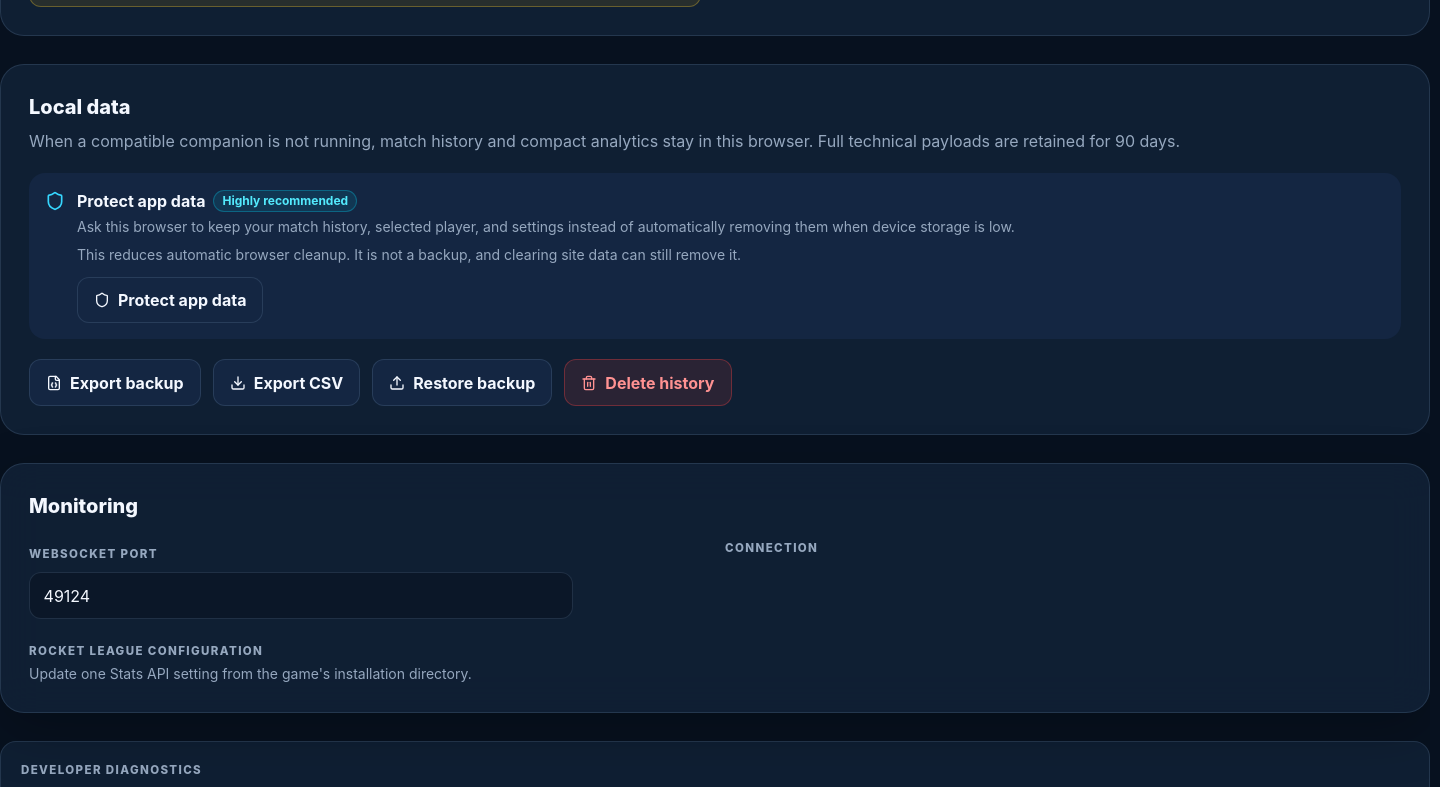
Test: settings CSV export › requires a selected player profile before loading export data
(page scrolled)
Click the button "Export CSV": (286, 383) [213,359,360,406]
(page scrolled)
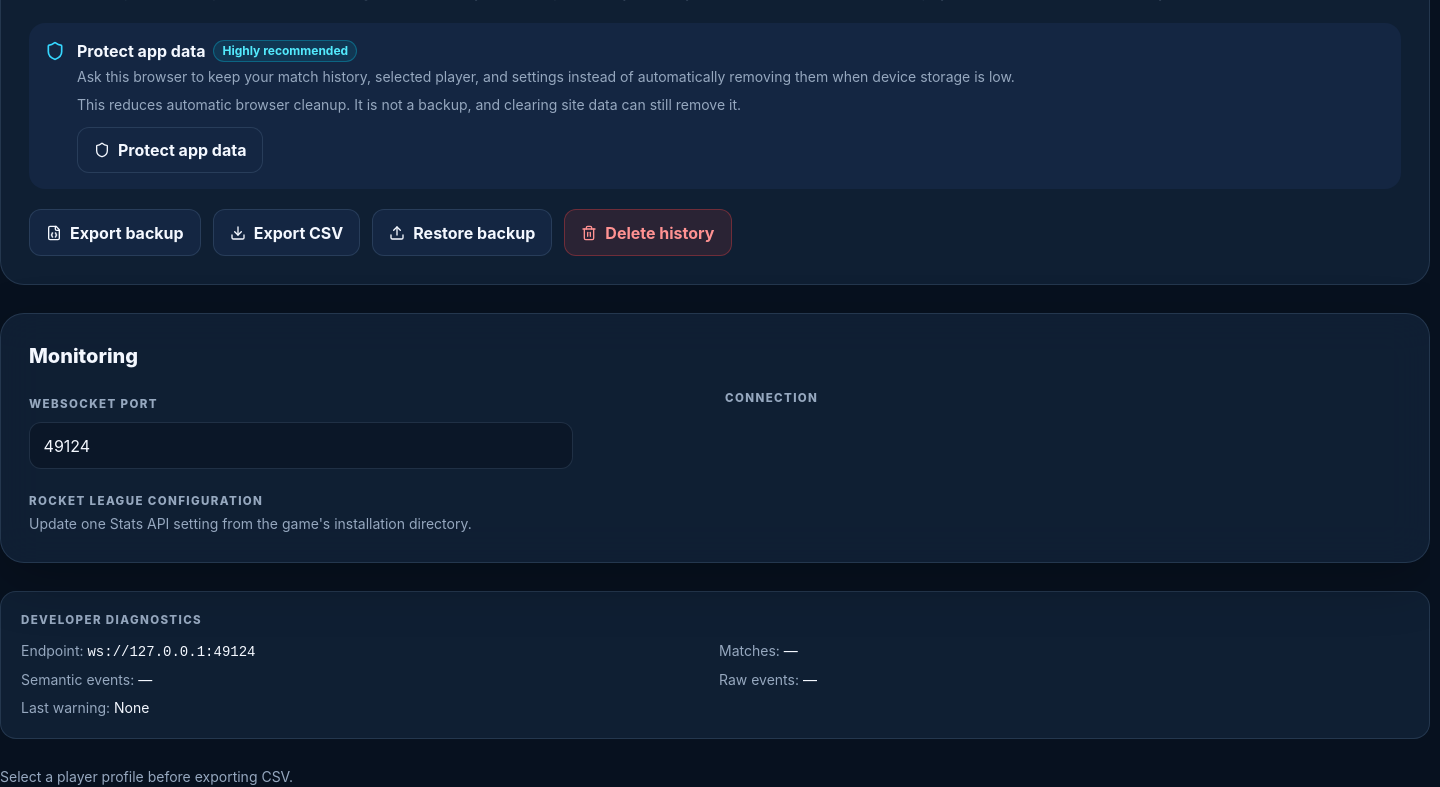
Expected: the text "Select a player profile before exporting CSV." is shown, [0,767,293,786]
